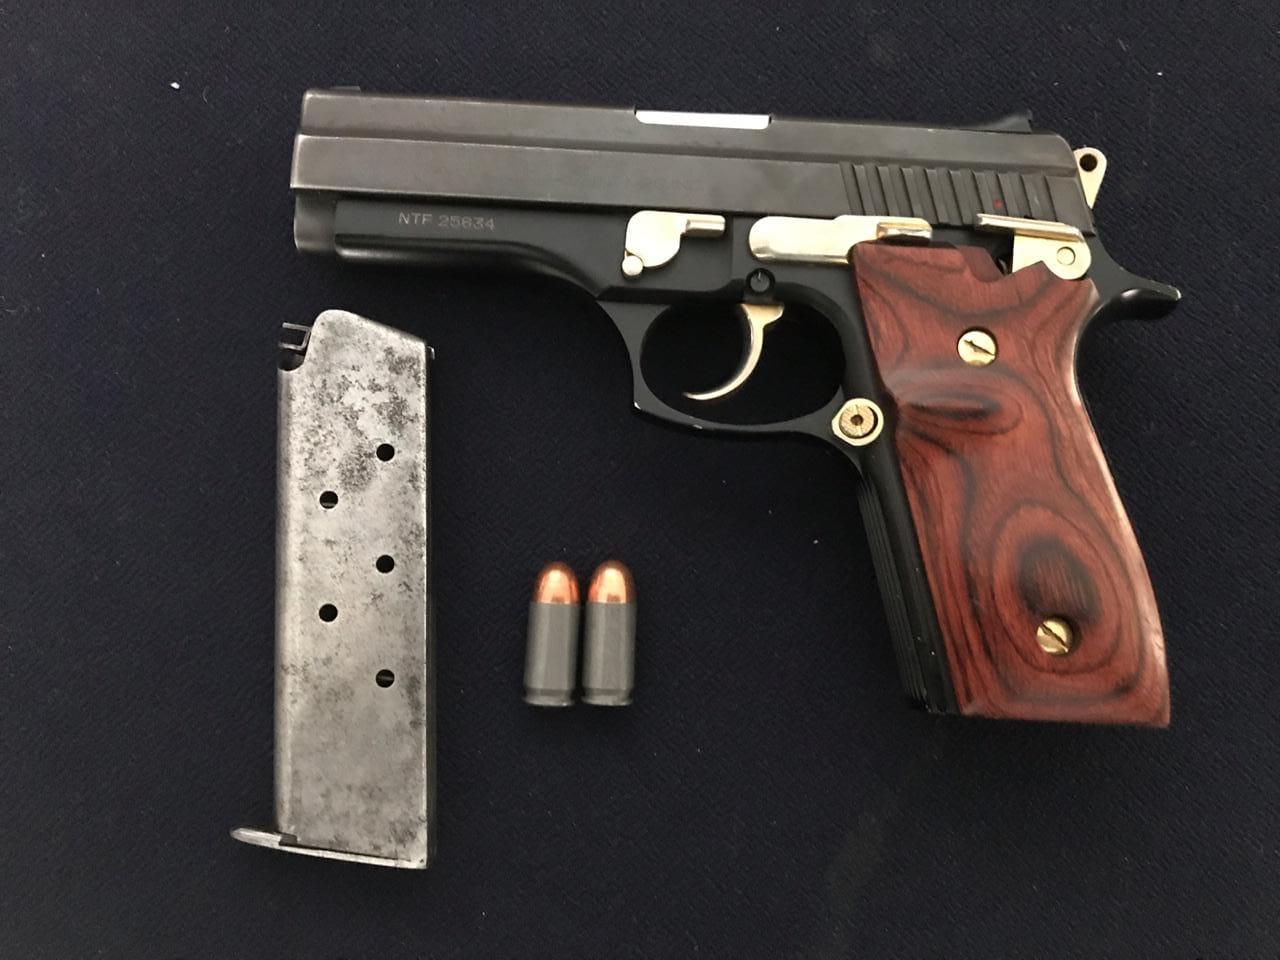Arma Real: (288, 70, 1201, 735)
